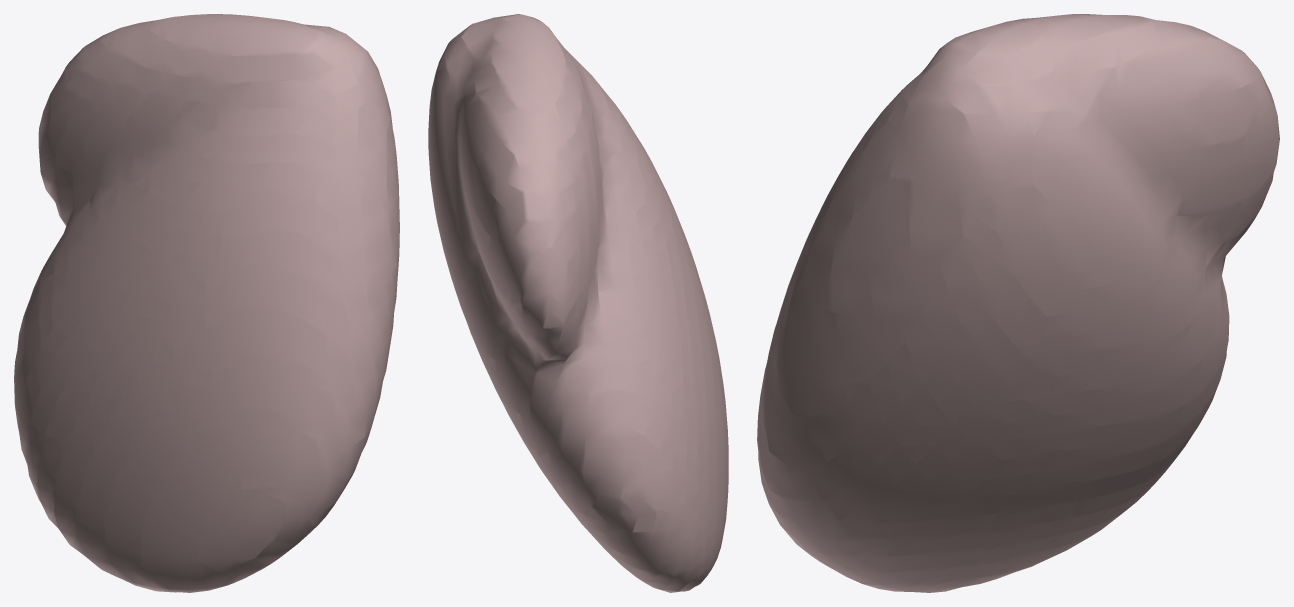
Rendered from chloe-left.gltf.
3 renders of one model, left to right at view 1: azimuth 30°, elevation 25°; view 2: azimuth 150°, elevation 25°; view 3: azimuth 270°, elevation 25°, orthographic. The views are drawn at different scales.
Visible parts, largest first — view 1: Layer_5; view 2: Layer_5; view 3: Layer_5.
Part boxes in pixels (x1,y1,x2,y2): Layer_5: (14,14,399,592); Layer_5: (428,14,728,592); Layer_5: (757,14,1279,592).
Size of the model in its own units: 13.83 by 22.88 by 16.89.
1 material, 1 textured.
